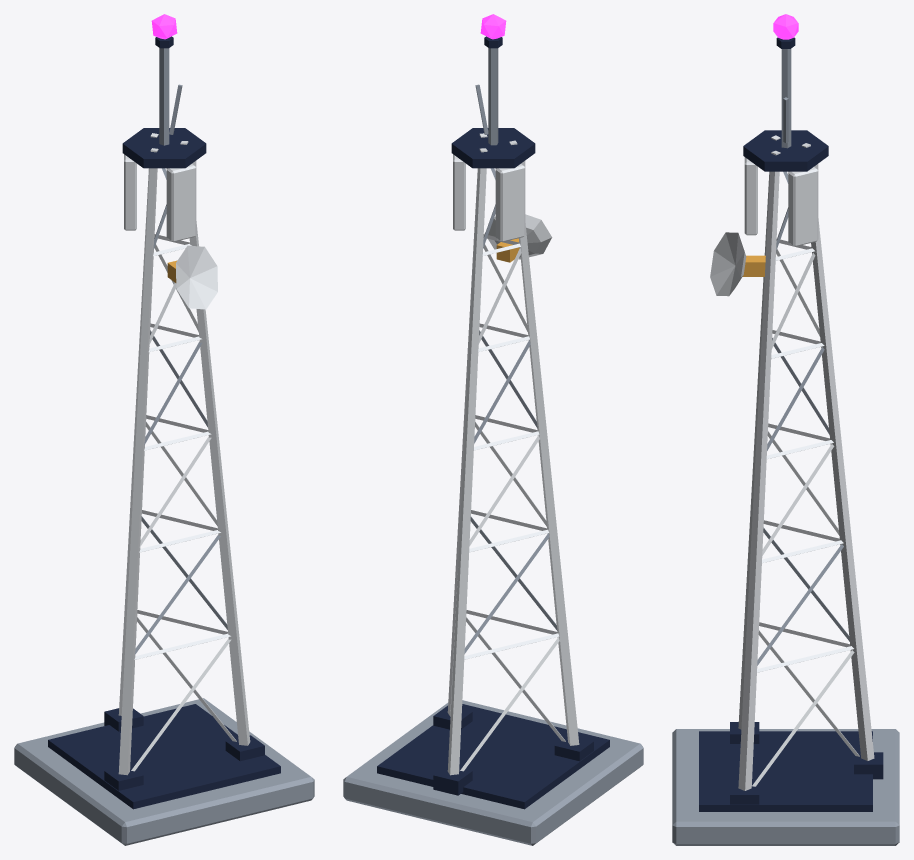
The model's file is antenna_tower.glb.
3 renders of one model, left to right at view 1: azimuth 30°, elevation 25°; view 2: azimuth 150°, elevation 25°; view 3: azimuth 270°, elevation 25°, orthographic. The views are drawn at different scales.
Parts seen in each view (by area): view 1: antenna_tower; view 2: antenna_tower; view 3: antenna_tower.
Part boxes in pixels (x1=…): antenna_tower: x1=14, y1=14, x2=314, y2=845; antenna_tower: x1=343, y1=14, x2=643, y2=845; antenna_tower: x1=672, y1=14, x2=899, y2=845.
Bounding box in the file's own units: 1.7 × 6.48 × 1.7.
